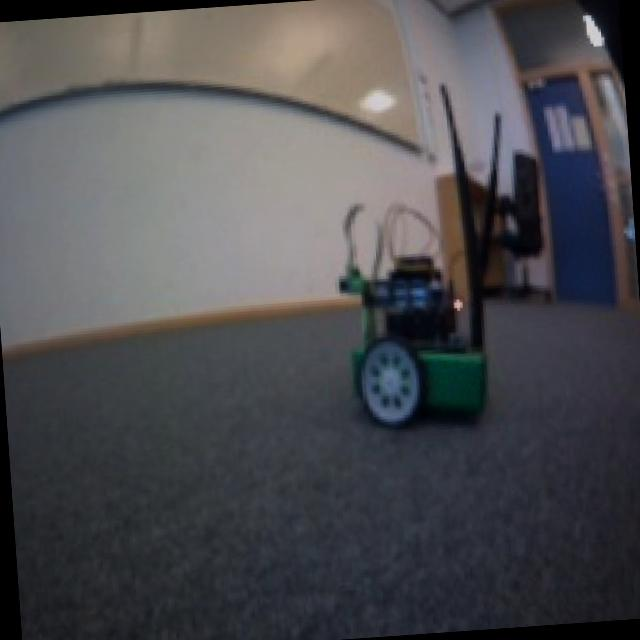robot: (334, 251, 491, 434)
